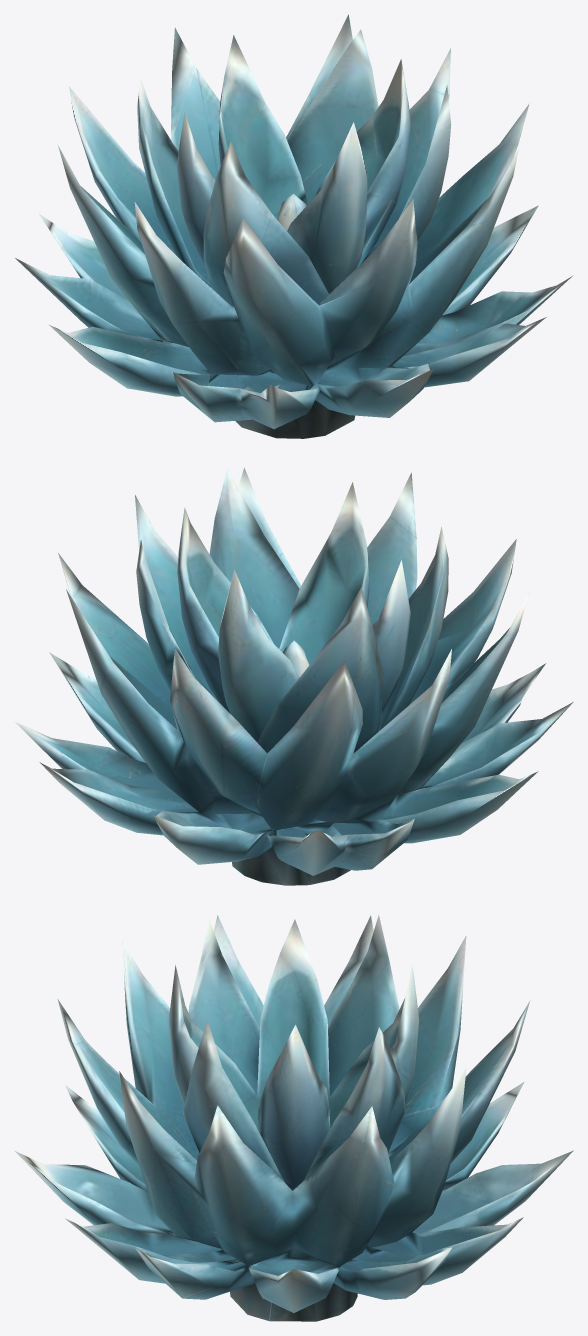
Rendered from agave.lod.glb.
The picture shows the model from 3 angles, top to bottom: view 1: azimuth 30°, elevation 25°; view 2: azimuth 150°, elevation 25°; view 3: azimuth 270°, elevation 25°; orthographic projection.
Size of the model in its own units: 1.9 by 1.23 by 1.88.
1 material, 1 textured.
